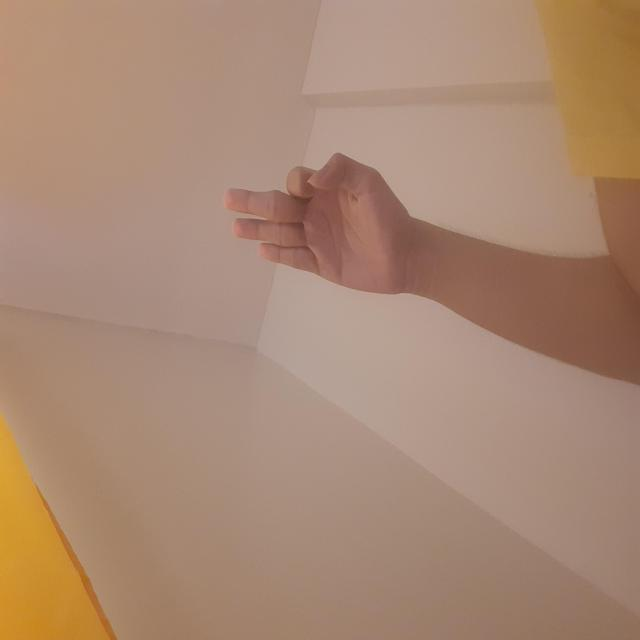F: (345, 225, 488, 402)
